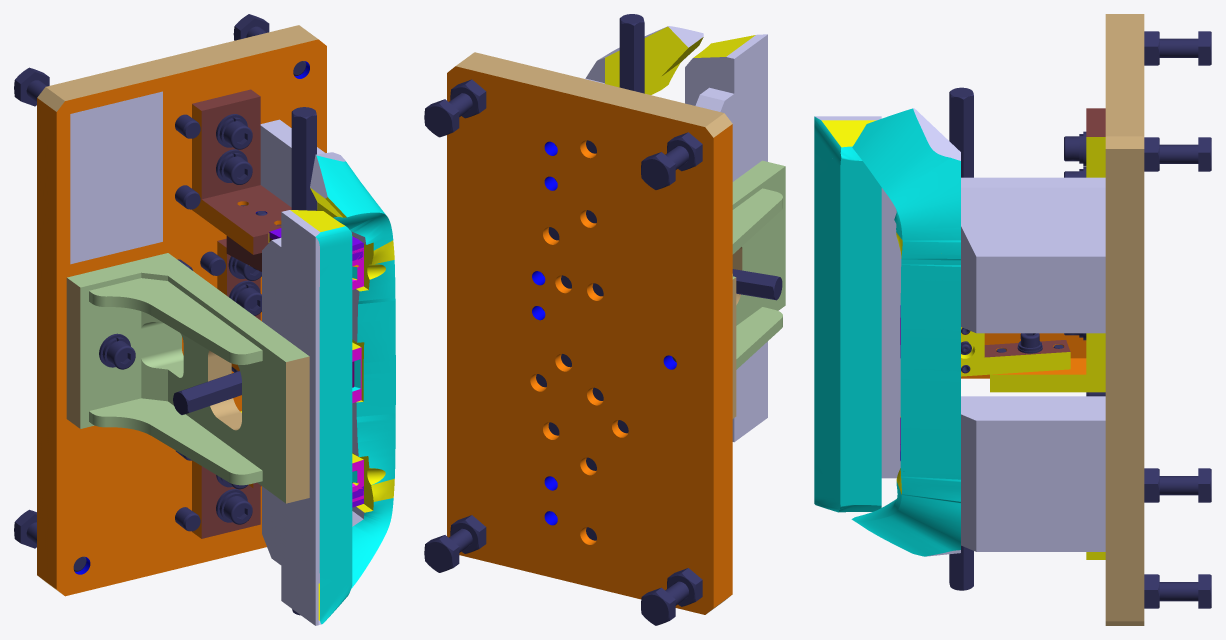
The model's file is DK146600_D1G1552Y_K00_260926_KEN.obj.
3 views of the same model, side by side, from view 1: azimuth 30°, elevation 25°; view 2: azimuth 150°, elevation 25°; view 3: azimuth 270°, elevation 25° (orthographic).
Parts seen in each view (by area): view 1: Shell_000, Shell_014, Shell_015, Shell_012, Shell_001, Shell_044, Shell_013, Shell_066, Shell_047, Shell_011, Shell_025, Shell_002 (+10 smaller); view 2: Shell_000, Shell_015, Shell_014, Shell_012, Shell_047, Shell_004, Shell_006, Shell_002, Shell_008, Shell_025, Shell_013, Shell_005 (+3 smaller); view 3: Shell_012, Shell_015, Shell_000, Shell_011, Shell_010, Shell_013, Shell_022, Shell_023, Shell_047, Shell_044, Shell_002, Shell_004 (+8 smaller).
Boxes of the visible parts, <box> form: Shell_000: <box>37,25,326,596</box>; Shell_014: <box>66,253,309,503</box>; Shell_015: <box>281,210,352,625</box>; Shell_012: <box>310,152,395,588</box>; Shell_001: <box>70,91,162,264</box>; Shell_044: <box>192,89,291,254</box>; Shell_013: <box>262,238,281,564</box>; Shell_066: <box>192,460,261,538</box>; Shell_047: <box>291,107,316,210</box>; Shell_011: <box>260,119,325,210</box>; Shell_025: <box>173,371,241,414</box>; Shell_002: <box>14,67,49,106</box>; Shell_000: <box>447,52,732,614</box>; Shell_015: <box>685,34,767,442</box>; Shell_014: <box>732,160,785,418</box>; Shell_012: <box>585,26,703,94</box>; Shell_047: <box>619,14,644,93</box>; Shell_004: <box>424,93,472,137</box>; Shell_006: <box>424,528,472,572</box>; Shell_002: <box>641,146,688,189</box>; Shell_008: <box>641,581,688,625</box>; Shell_025: <box>732,269,782,300</box>; Shell_013: <box>695,87,734,181</box>; Shell_005: <box>450,79,486,118</box>; Shell_012: <box>851,108,960,556</box>; Shell_015: <box>814,116,881,512</box>; Shell_000: <box>1105,14,1144,625</box>; Shell_011: <box>961,177,1105,333</box>; Shell_010: <box>961,396,1105,551</box>; Shell_013: <box>881,188,901,478</box>; Shell_022: <box>990,333,1105,392</box>; Shell_023: <box>961,327,1070,376</box>; Shell_047: <box>949,87,973,177</box>; Shell_044: <box>1086,108,1105,177</box>; Shell_002: <box>1159,31,1211,65</box>; Shell_004: <box>1159,137,1211,171</box>.
Size of the model in its own units: 160 by 282 by 206.
